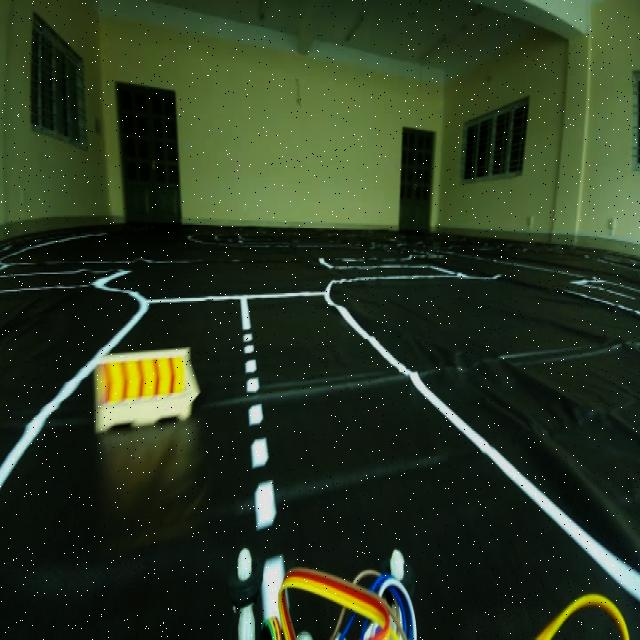roadblock: (90, 349, 194, 435)
